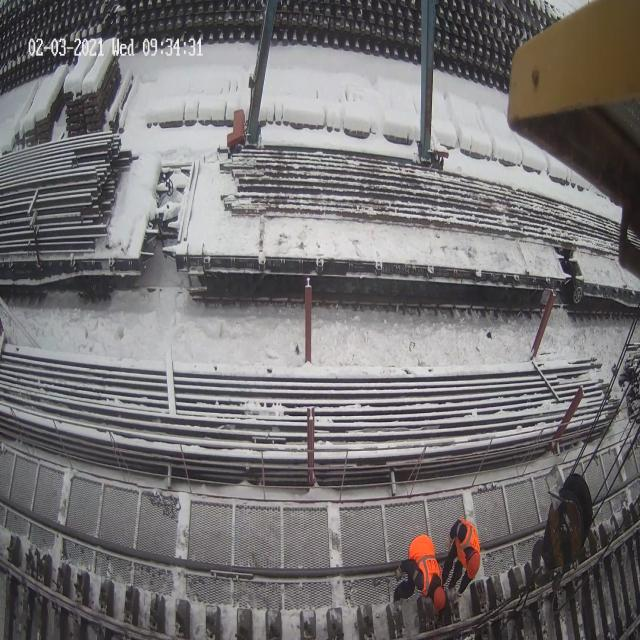Helmet: (465, 538, 481, 577), (433, 586, 446, 612)
Person: (392, 529, 450, 618), (441, 517, 481, 597)
